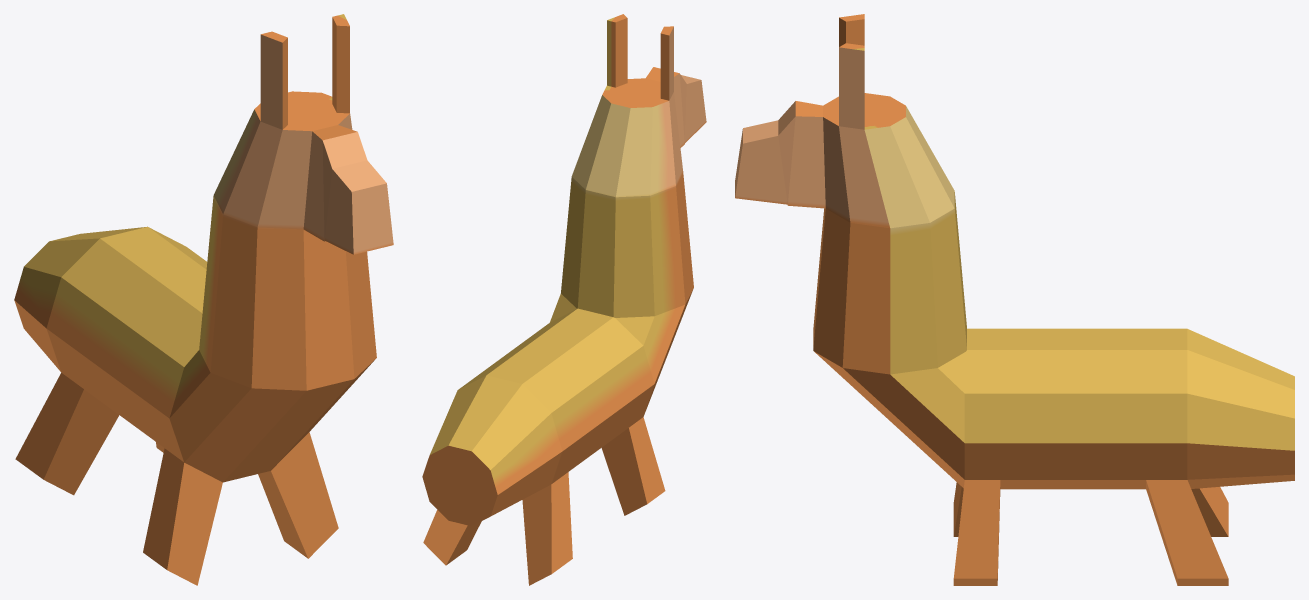
File: llama 2.fbx
The picture shows the model from 3 angles, left to right: view 1: azimuth 30°, elevation 25°; view 2: azimuth 150°, elevation 25°; view 3: azimuth 270°, elevation 25°; orthographic projection. The views are drawn at different scales.
Visible parts, largest first — view 1: Cylinder.008; view 2: Cylinder.008; view 3: Cylinder.008.
Boxes of the visible parts, x1,y1,x2,y2 form: Cylinder.008: (14,14,393,585); Cylinder.008: (422,14,706,585); Cylinder.008: (735,14,1294,585).
Size of the model in its own units: 28.38 by 92.33 by 88.54.
